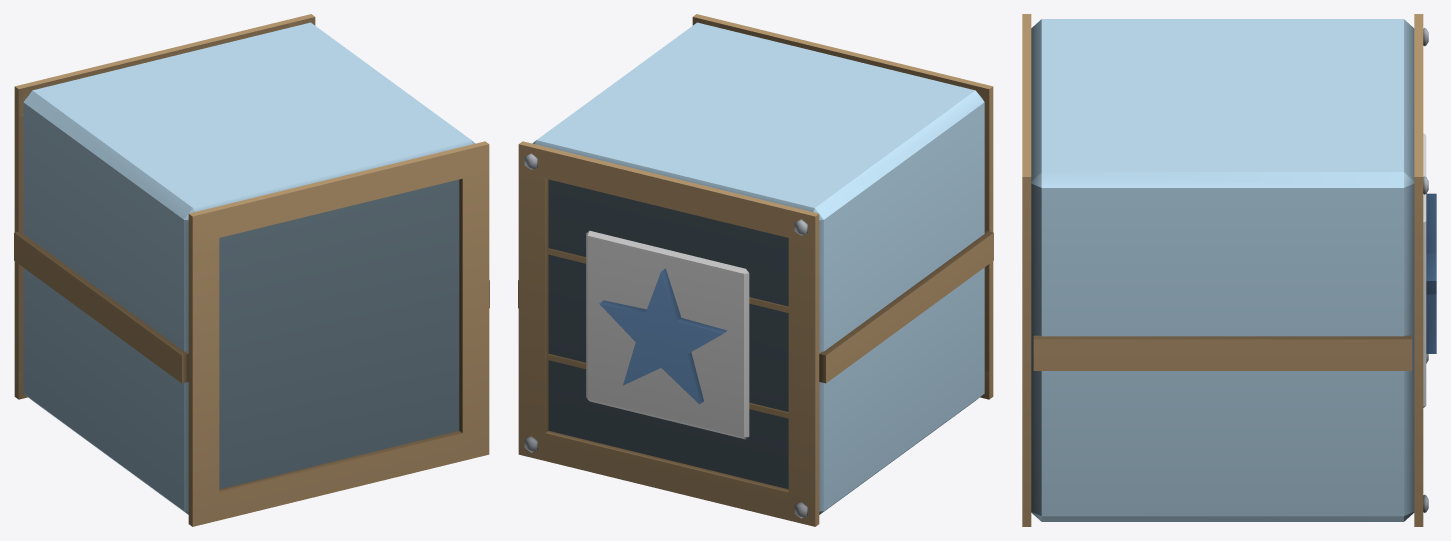
File: PointsCrate.fbx
3 renders of one model, left to right at view 1: azimuth 30°, elevation 25°; view 2: azimuth 150°, elevation 25°; view 3: azimuth 270°, elevation 25°, orthographic. The views are drawn at different scales.
Visible parts, largest first — view 1: PointsCrate; view 2: PointsCrate; view 3: PointsCrate.
Boxes of the visible parts, bbox=[...] form: PointsCrate: bbox=[14, 14, 489, 526]; PointsCrate: bbox=[518, 14, 993, 526]; PointsCrate: bbox=[1022, 14, 1436, 526].
Size of the model in its own units: 1.35 by 1.3 by 1.4.
